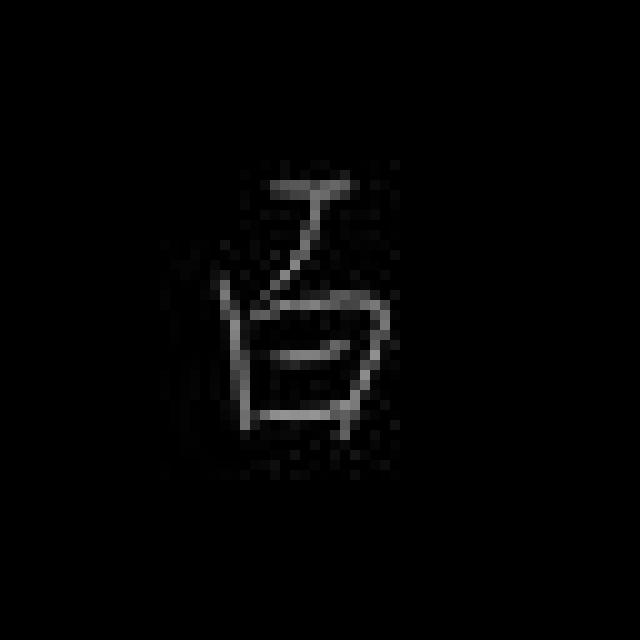100 -a hundred-: (204, 163, 404, 437)
